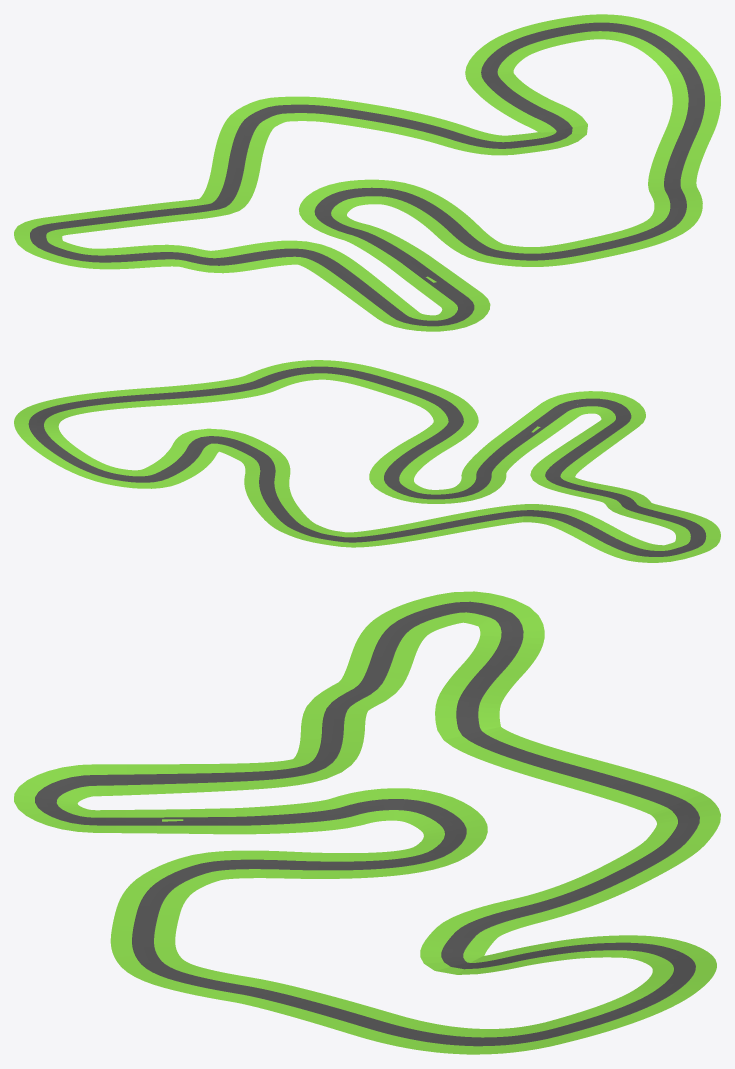
The model's file is test_alps.glb.
3 renders of one model, top to bottom at view 1: azimuth 30°, elevation 25°; view 2: azimuth 150°, elevation 25°; view 3: azimuth 270°, elevation 25°, orthographic. The views are drawn at different scales.
Parts seen in each view (by area): view 1: mesh_grass, mesh_road; view 2: mesh_grass, mesh_road; view 3: mesh_grass, mesh_road.
Boxes of the visible parts, left/top/right/bottom form: mesh_grass: left=14, top=14, right=720, bottom=331; mesh_road: left=30, top=22, right=704, bottom=326; mesh_grass: left=14, top=360, right=720, bottom=562; mesh_road: left=28, top=366, right=706, bottom=556; mesh_grass: left=14, top=591, right=720, bottom=1054; mesh_road: left=35, top=601, right=699, bottom=1046.
Bounding box in the file's own units: 424 × 23.33 × 276.
